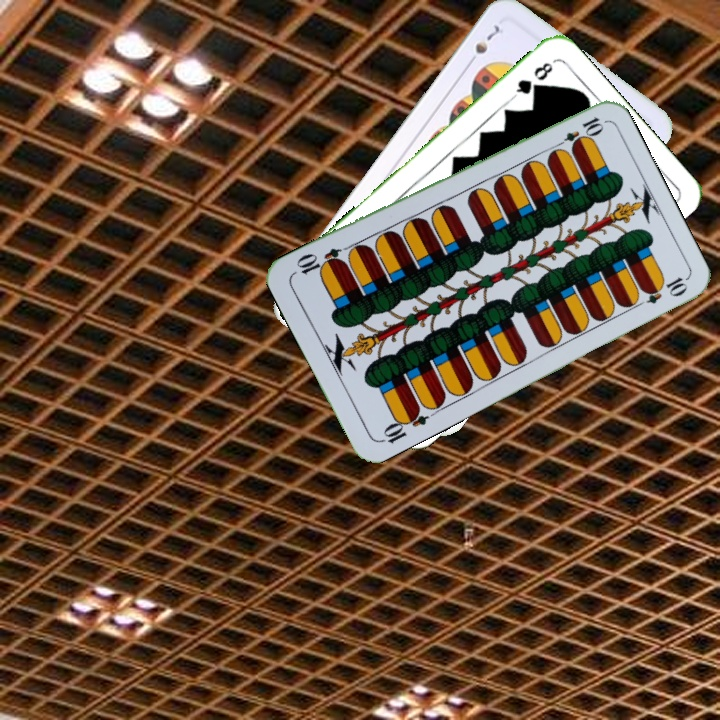E10: (376, 403, 431, 446), (550, 113, 606, 153)
G8: (509, 58, 556, 101)
S7: (463, 21, 502, 69)
